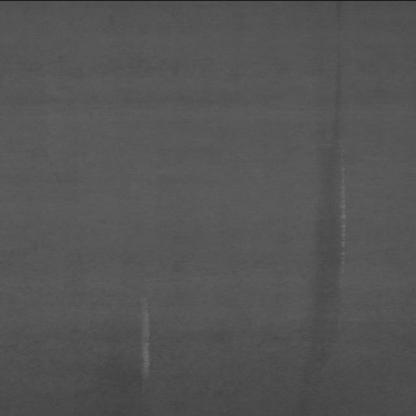crease: (294, 73, 365, 400)
